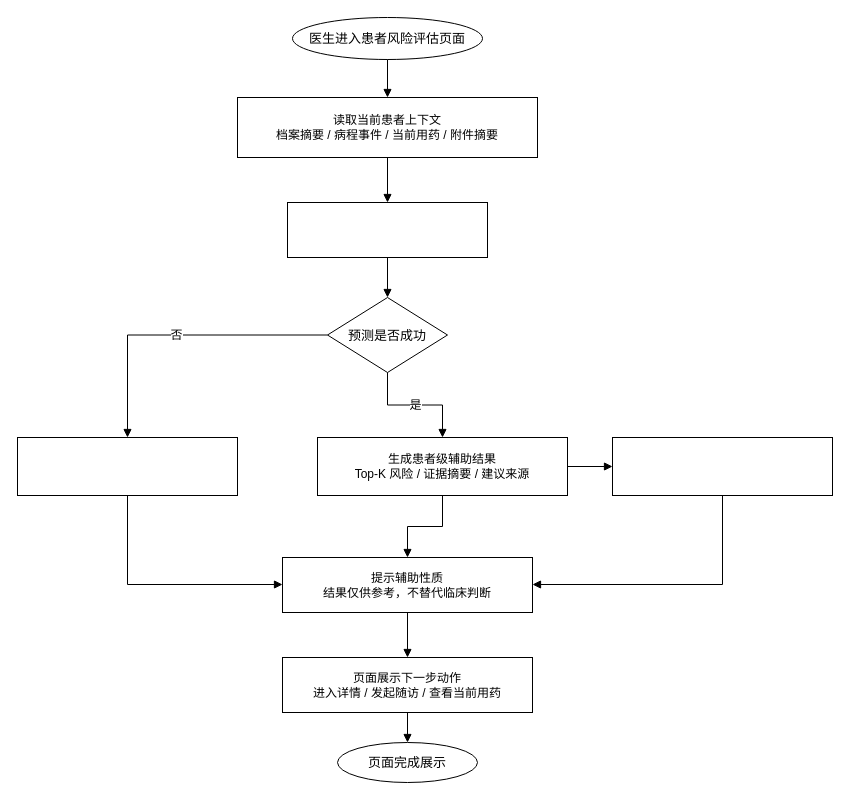
Image size: 850x800. Some labels were removed from this diagram. The centre of each missing label's shape, as x and y in pixels:
展示模型状态说明 available / degraded / unavailable: pixel 722 466
执行回退策略 展示预置摘要或降级提示: pixel 127 466
调用预测服务 TKGR-GPRSCL 推理能力: pixel 387 230
